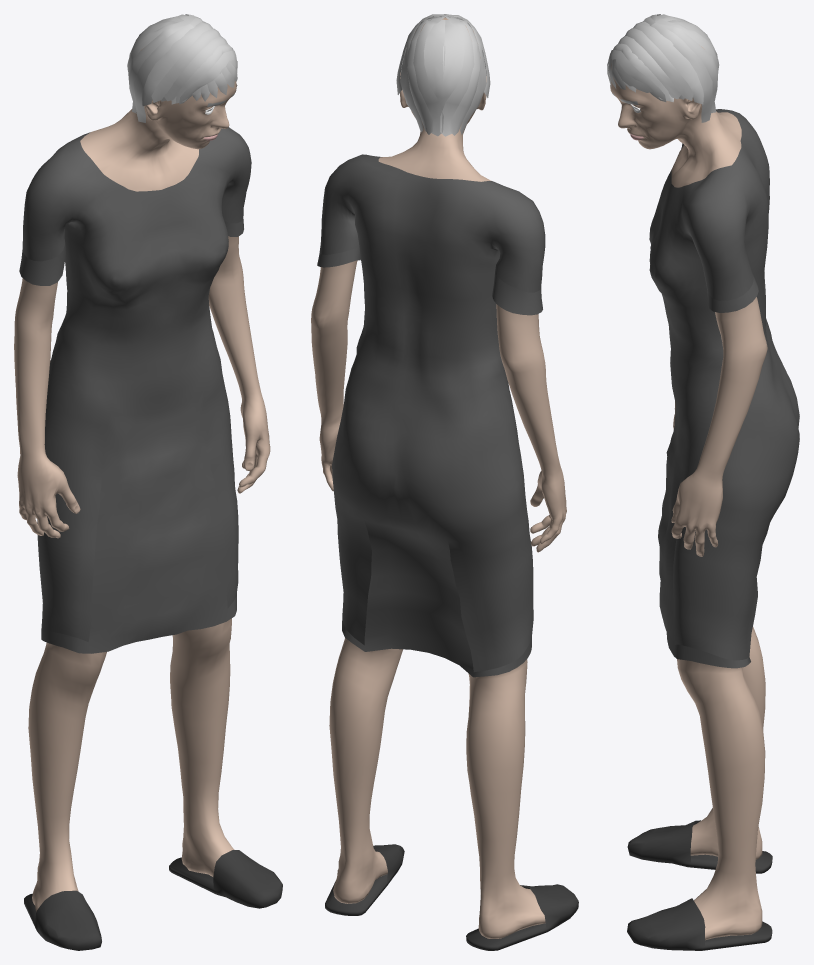
Rendered from WomanLM2.fbx.
The picture shows the model from 3 angles, left to right: view 1: azimuth 30°, elevation 25°; view 2: azimuth 150°, elevation 25°; view 3: azimuth 270°, elevation 25°; orthographic projection. The views are drawn at different scales.
Parts seen in each view (by area): view 1: WomanLM2; view 2: WomanLM2; view 3: WomanLM2.
Boxes of the visible parts, x1,y1,x2,y2 form: WomanLM2: (14, 14, 282, 950); WomanLM2: (311, 14, 578, 950); WomanLM2: (607, 14, 799, 950).
Bounding box in the file's own units: 0.4659 × 1.63 × 0.3197.
